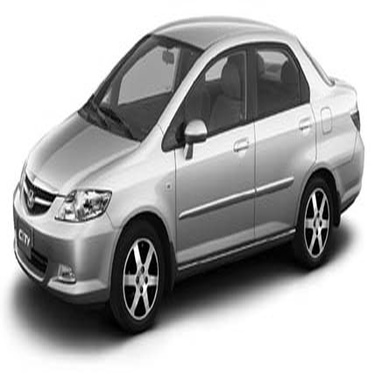car: (10, 8, 374, 332)
